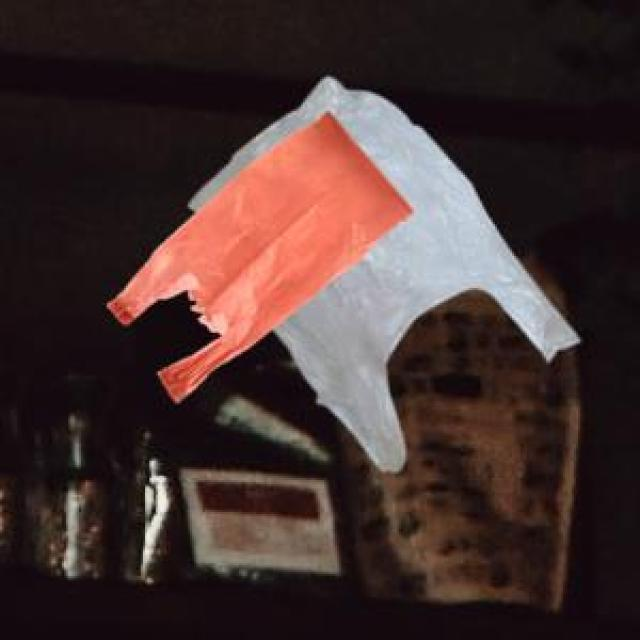waste: (109, 76, 579, 471)
